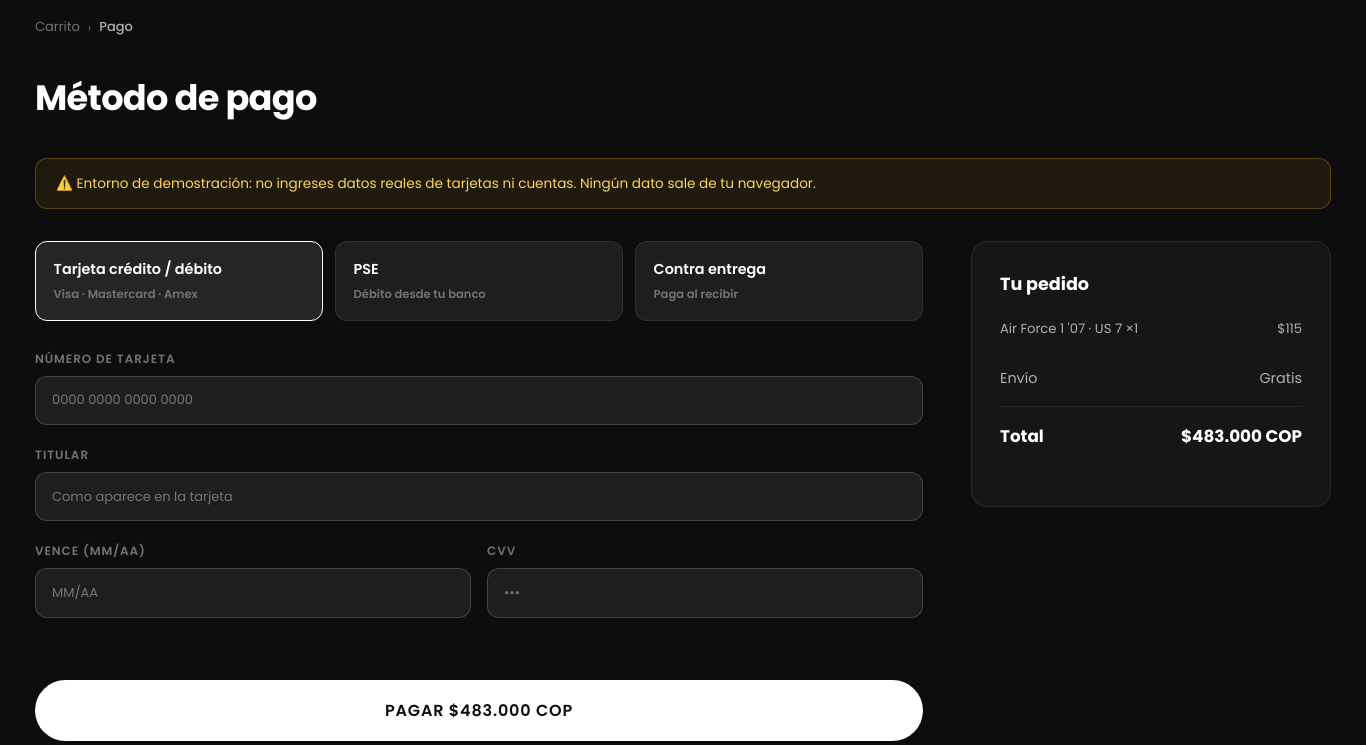
it: PagoPage — validación de formulario › reactiva el botón de pago tras un intento inválido (el guard no lo deja bloqueado)
In the field labelled "Número de tarjeta": (479, 400) [35, 376, 923, 425], type "4111111111111111"
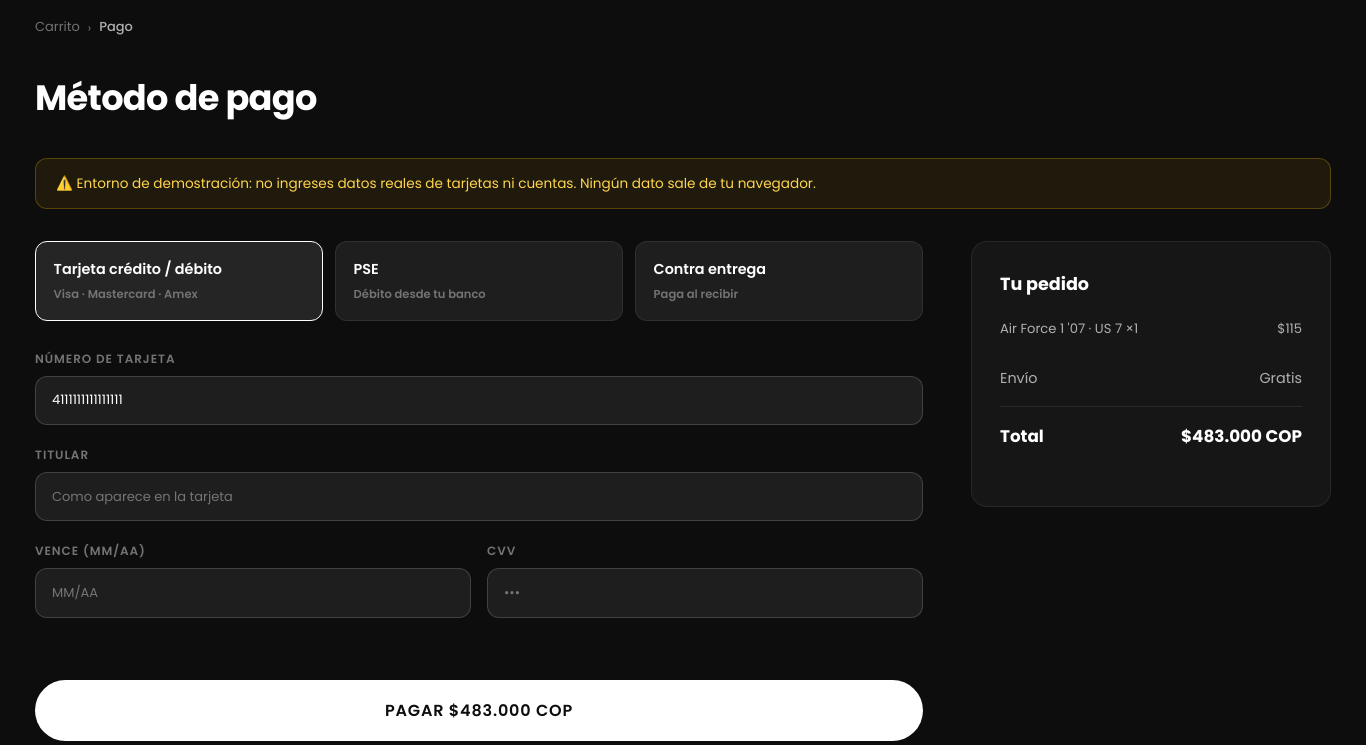
In the field labelled "Titular": (479, 497) [35, 472, 923, 521], type "Juan Perez"
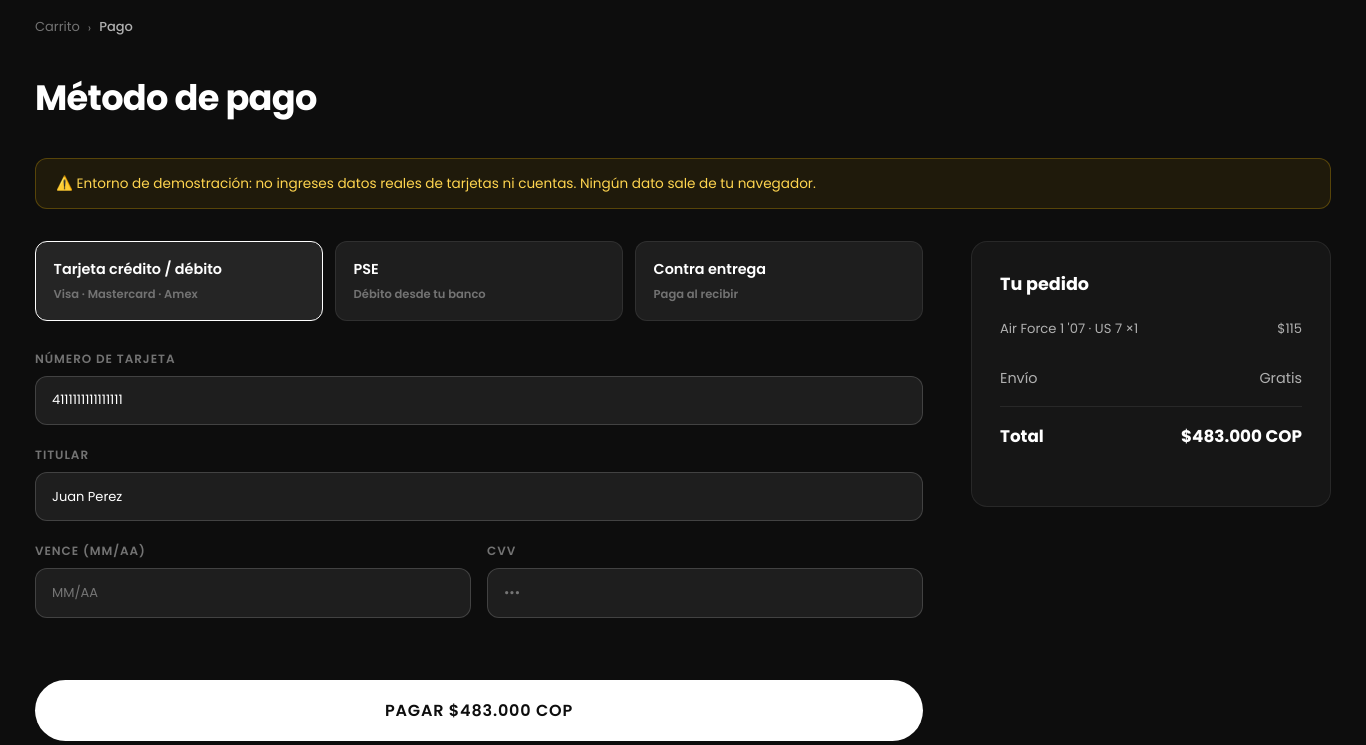
In the field labelled "Vence (MM/AA)": (253, 593) [35, 568, 471, 618], type "12/28"
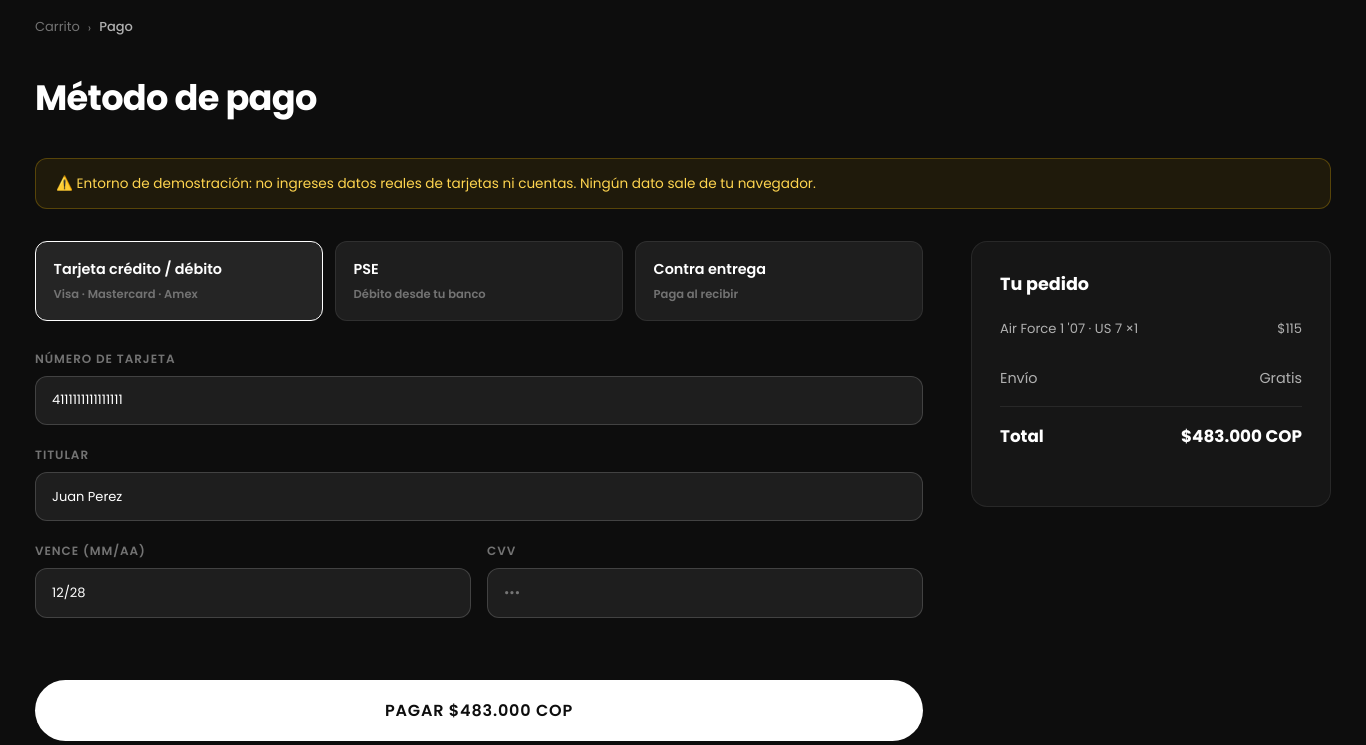
In the password field labelled "CVV": (705, 593) [487, 568, 923, 618], type "123"
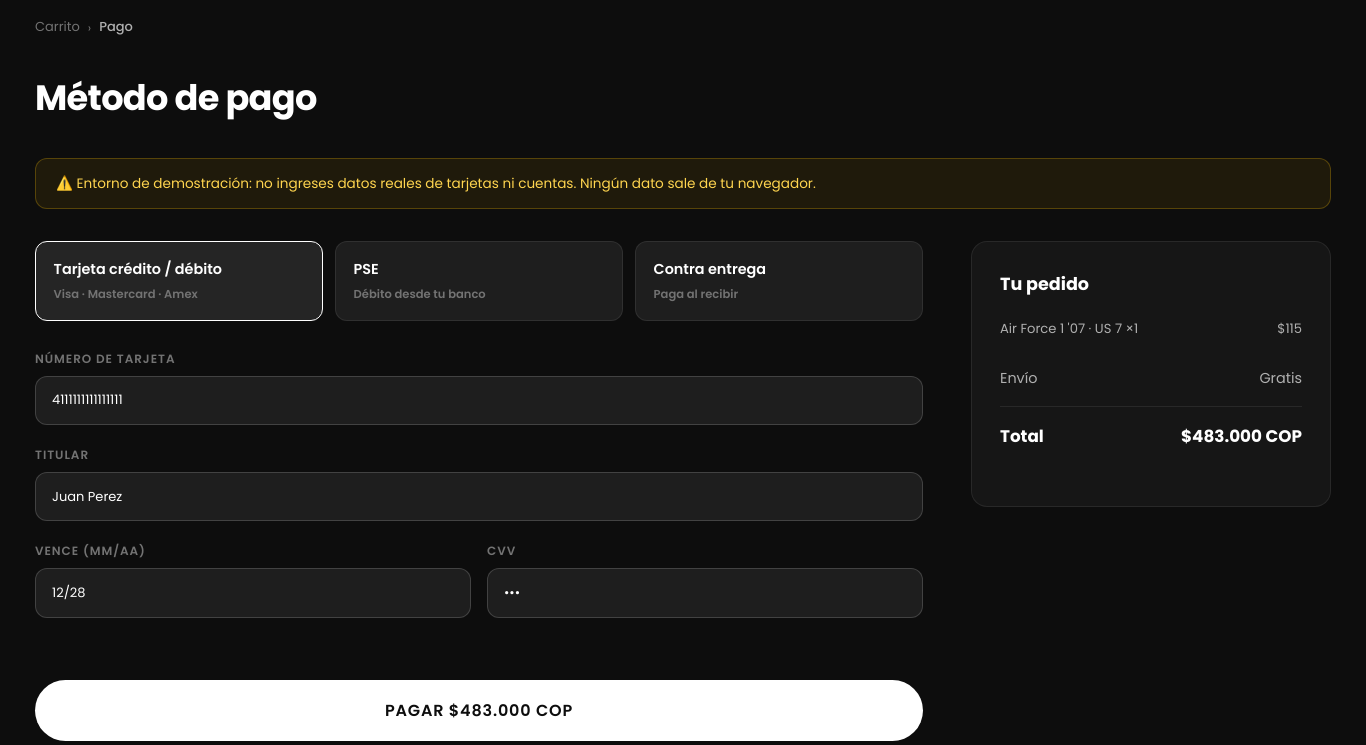
Replace the text in the field labelled "Número de tarjeta" with "123": (479, 400) [35, 376, 923, 425]
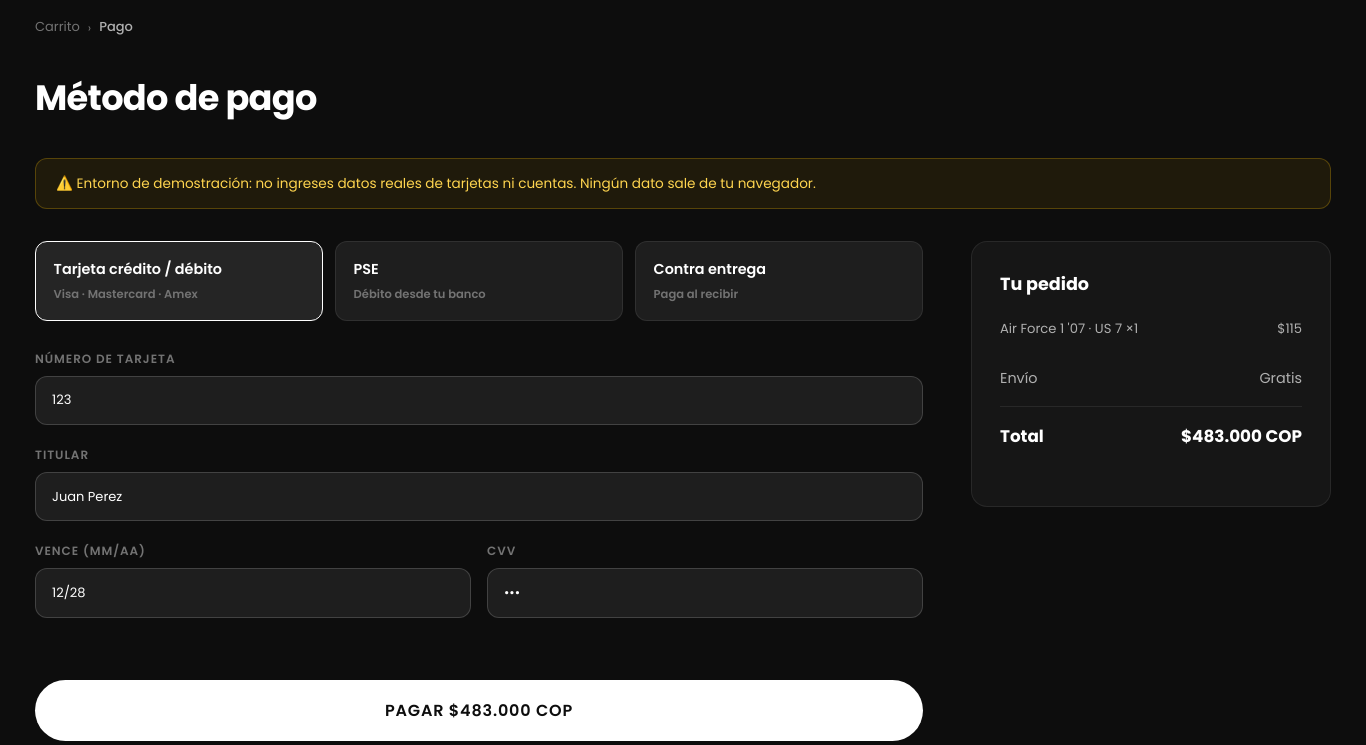
Click the button "Pagar $483.000 COP": (479, 710) [35, 680, 923, 741]
(page scrolled)
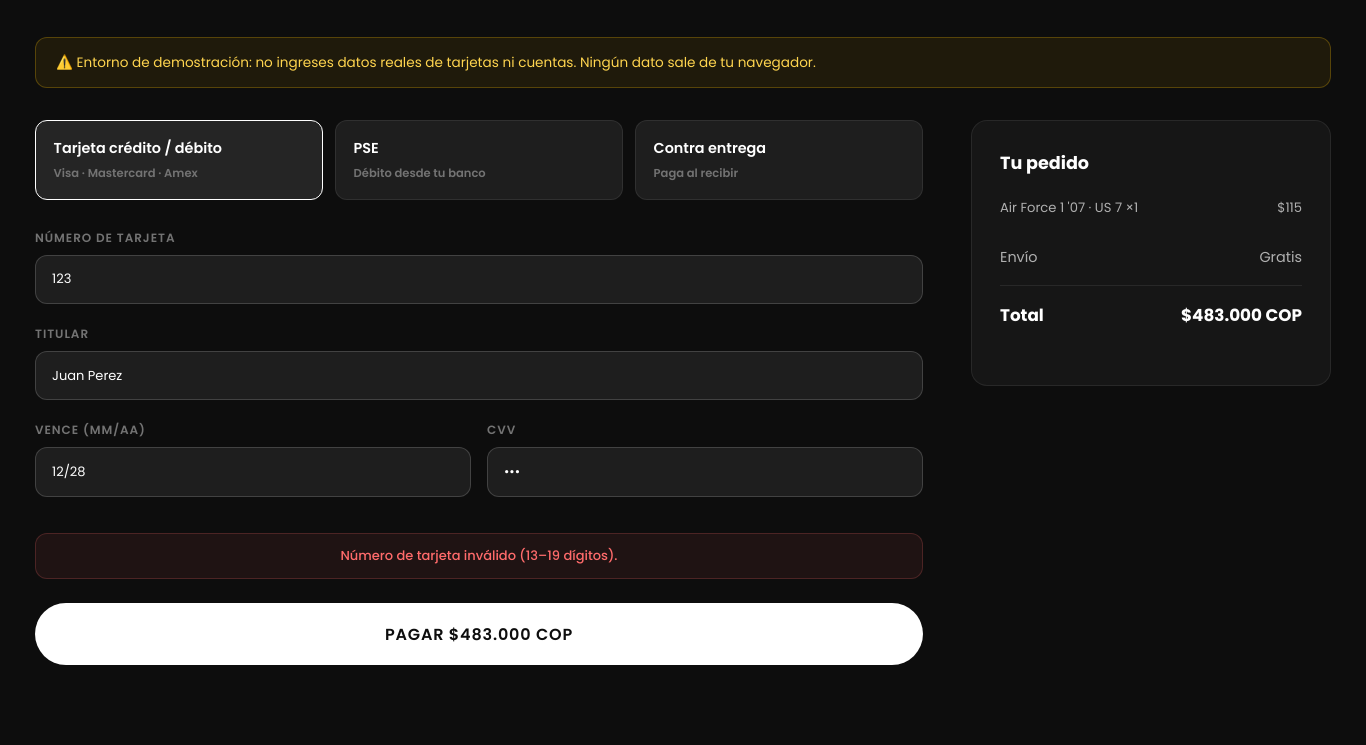
Expected: the button "Pagar $483.000 COP" is enabled, [35, 603, 923, 665]
Result: the message shows "Número de tarjeta inválido" at [340, 546, 618, 565]
